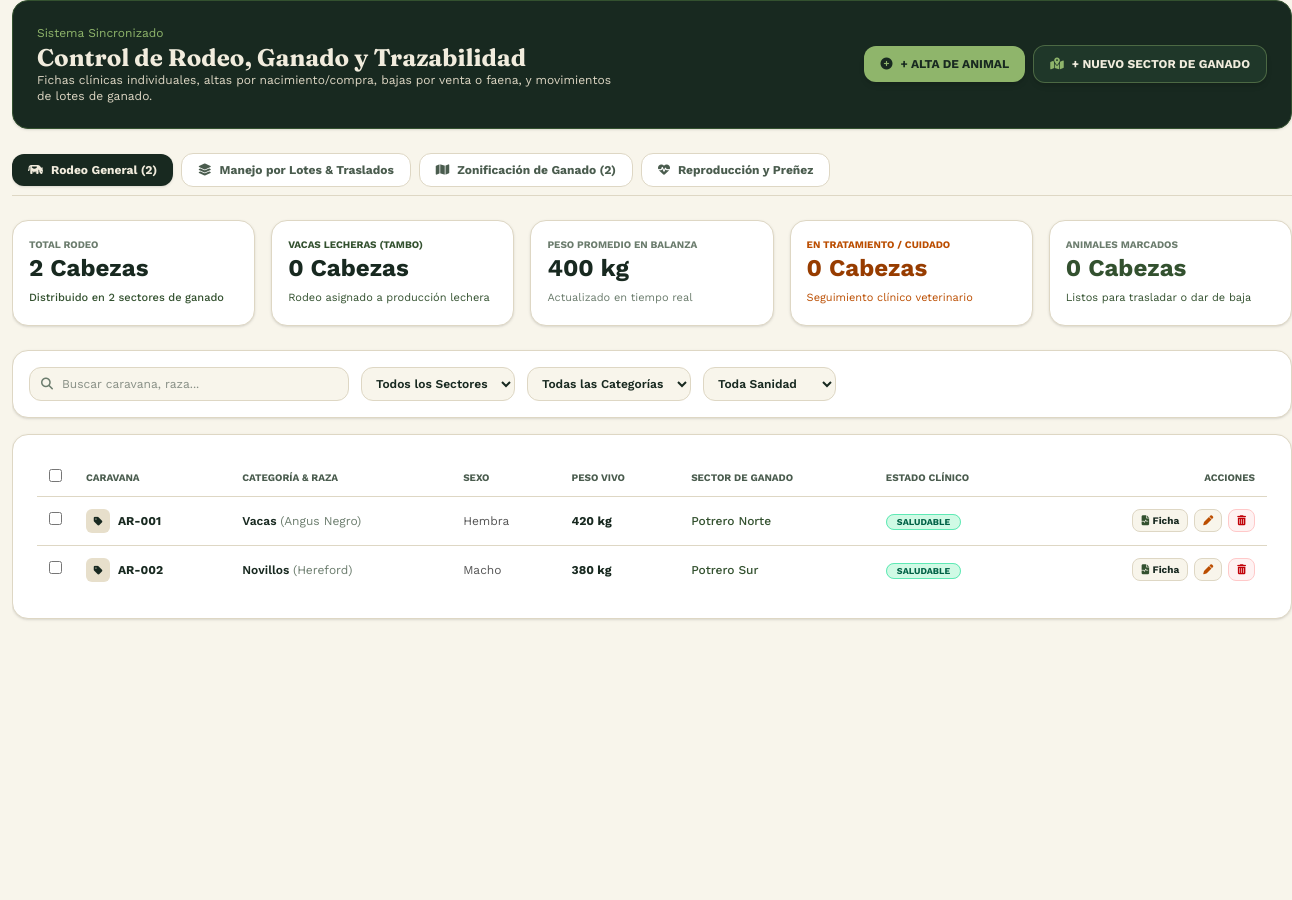
it: Vista de Gestión de Ganado y Rodeo (GanadoView.jsx) › marcar un animal actualiza los contadores en las tarjetas y botones de acción
The width and height of the screenshot is (1292, 900).
Check: the text "AR-001" is shown, box [118,512,161,528]
Click the checkbox next to "AR-001" at (56, 518), box [49,512,62,525]
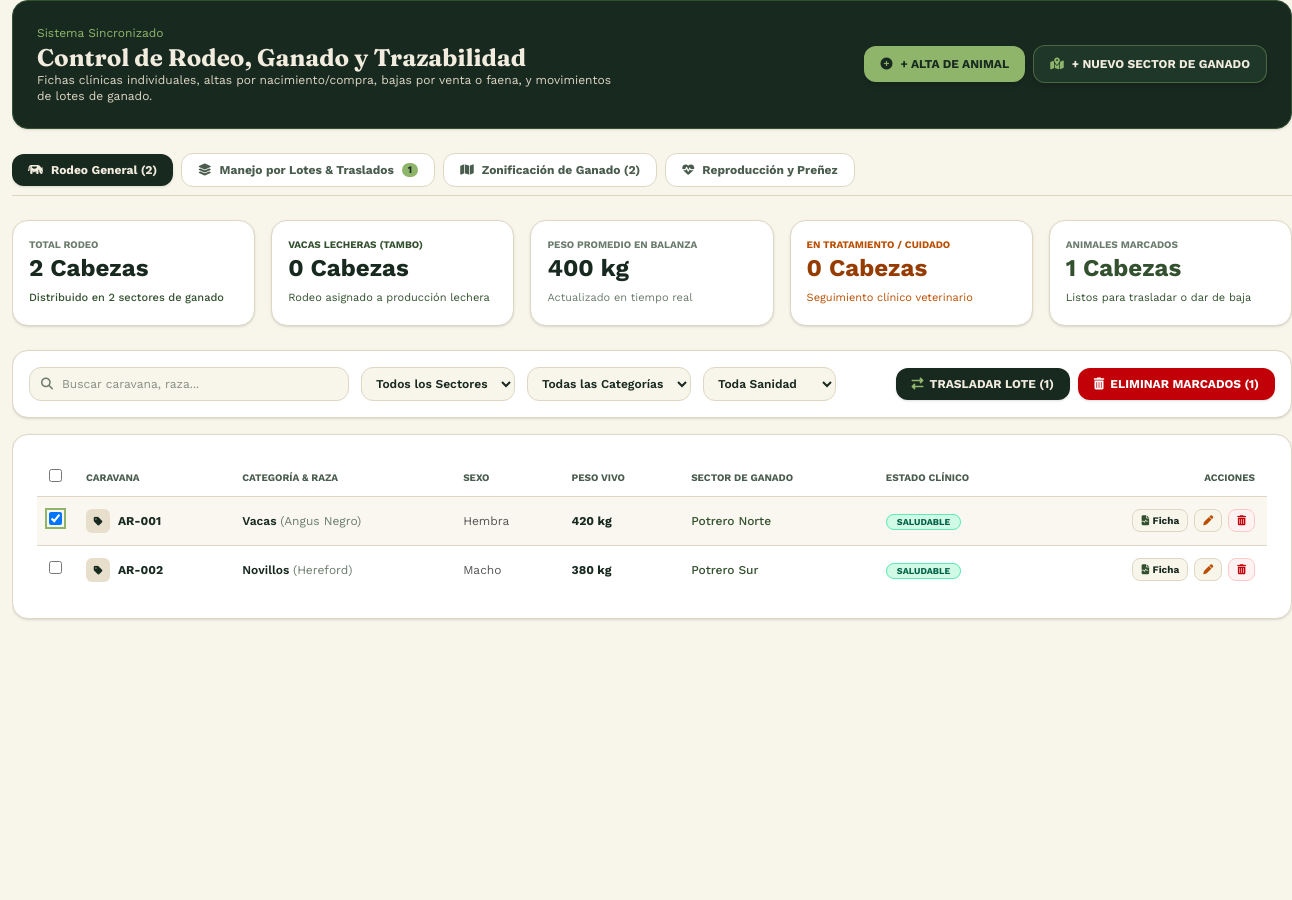
Check: the button "Eliminar Marcados (1)" is shown, box [1078,368,1275,400]
Check: the button "Trasladar Lote (1)" is shown, box [896,368,1070,400]
